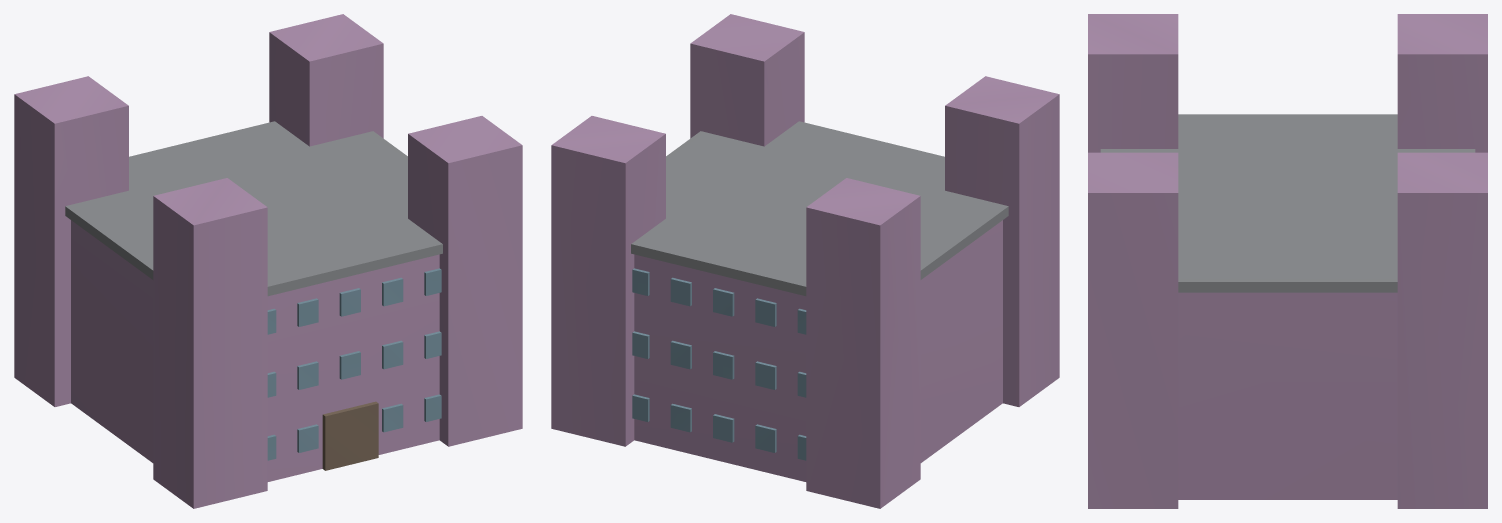
The model's file is castle-05.glb.
3 renders of one model, left to right at view 1: azimuth 30°, elevation 25°; view 2: azimuth 150°, elevation 25°; view 3: azimuth 270°, elevation 25°, orthographic. The views are drawn at different scales.
Parts seen in each view (by area): view 1: world; view 2: world; view 3: world.
Part boxes in pixels (x1,y1,x2,y2): world: (14, 14, 522, 508); world: (551, 14, 1059, 508); world: (1088, 14, 1487, 508).
Bounding box in the file's own units: 2.53 × 2.08 × 2.39.
